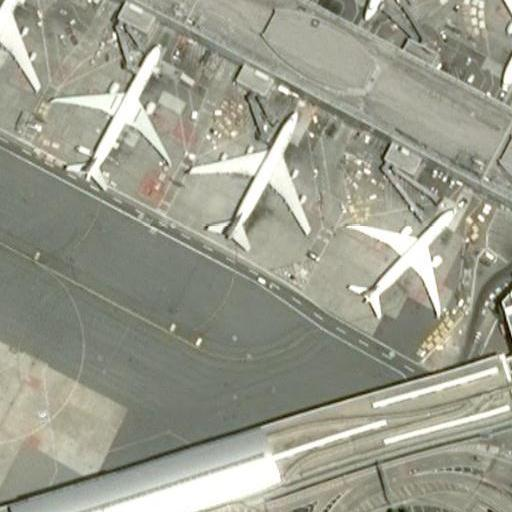Aircraft: (50, 42, 171, 191), (187, 104, 312, 248), (343, 202, 458, 323), (0, 0, 43, 95), (484, 0, 512, 92), (350, 0, 473, 20)
